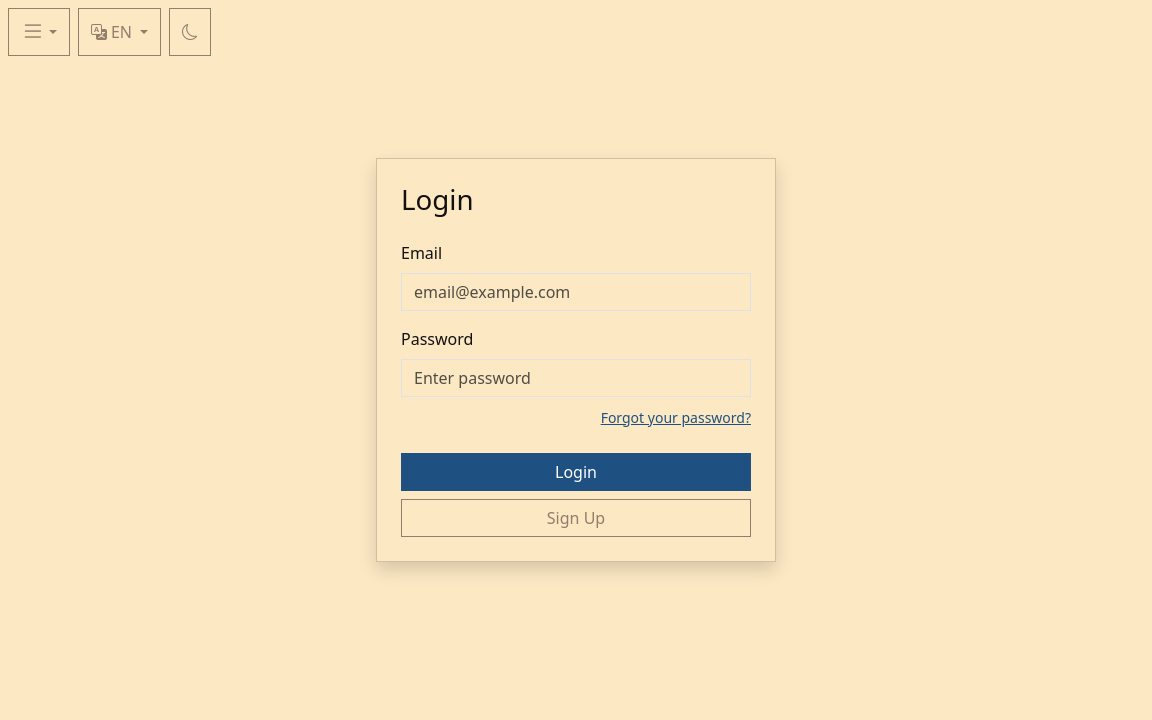
Test: App routes › switches translations and document direction for Hebrew
What coordinates should you click on to do the following:
click the button with aria-label "Language"
I would click on:
 (119, 32)
Its box is [78,8,161,56].
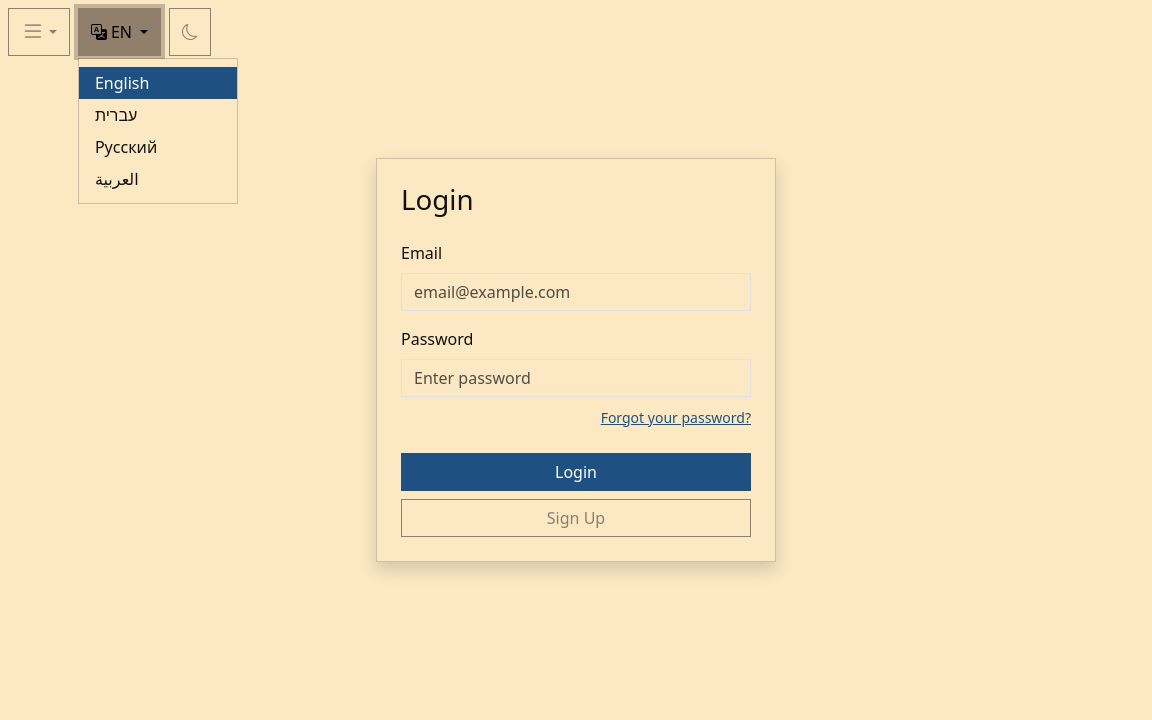
What coordinates should you click on to do the following:
click the button "עברית"
I would click on:
 (116, 115)
Its box is [95,104,137,126].
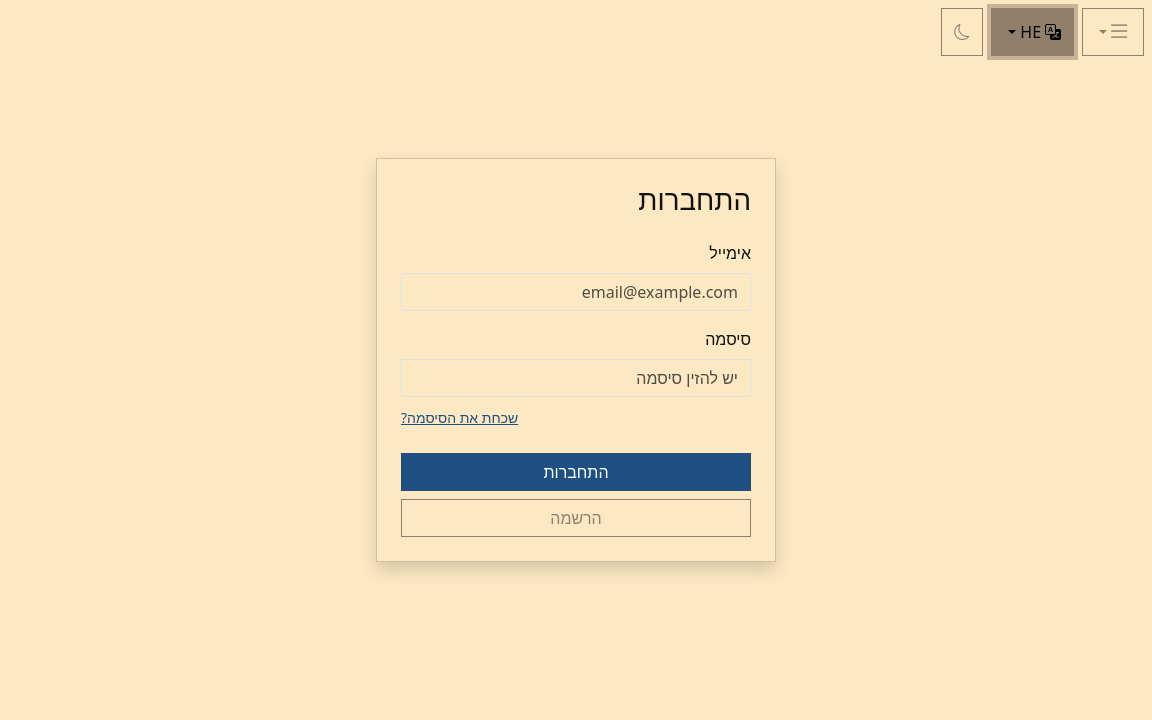
Expected: the button with aria-label "שפה" is shown, [991,8,1074,56]
